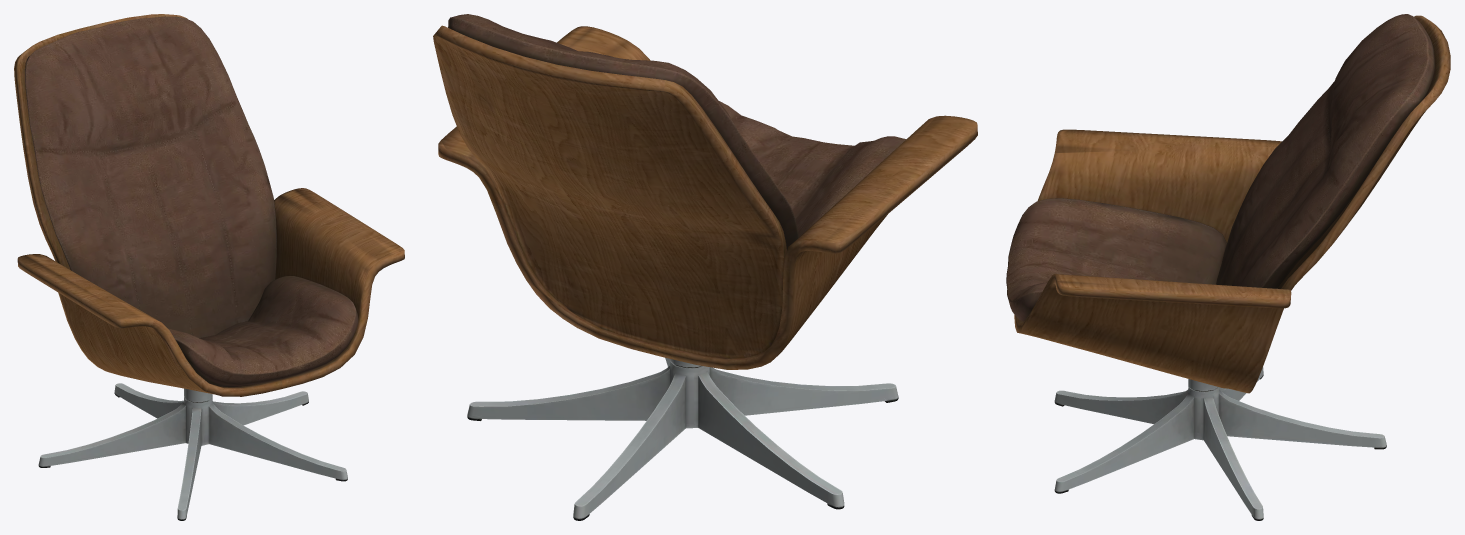
The model's file is mid_century_lounge_chair_1k.glb.
The picture shows the model from 3 angles, left to right: view 1: azimuth 30°, elevation 25°; view 2: azimuth 150°, elevation 25°; view 3: azimuth 270°, elevation 25°; orthographic projection. The views are drawn at different scales.
Visible parts, largest first — view 1: mid_century_lounge_chair; view 2: mid_century_lounge_chair; view 3: mid_century_lounge_chair.
Part boxes in pixels (<box>): mid_century_lounge_chair: <box>14,14,404,520</box>; mid_century_lounge_chair: <box>433,14,977,520</box>; mid_century_lounge_chair: <box>1006,14,1450,520</box>.
Size of the model in its own units: 1.01 by 1.17 by 1.19.
Materials: 1 (1 with a texture image).
